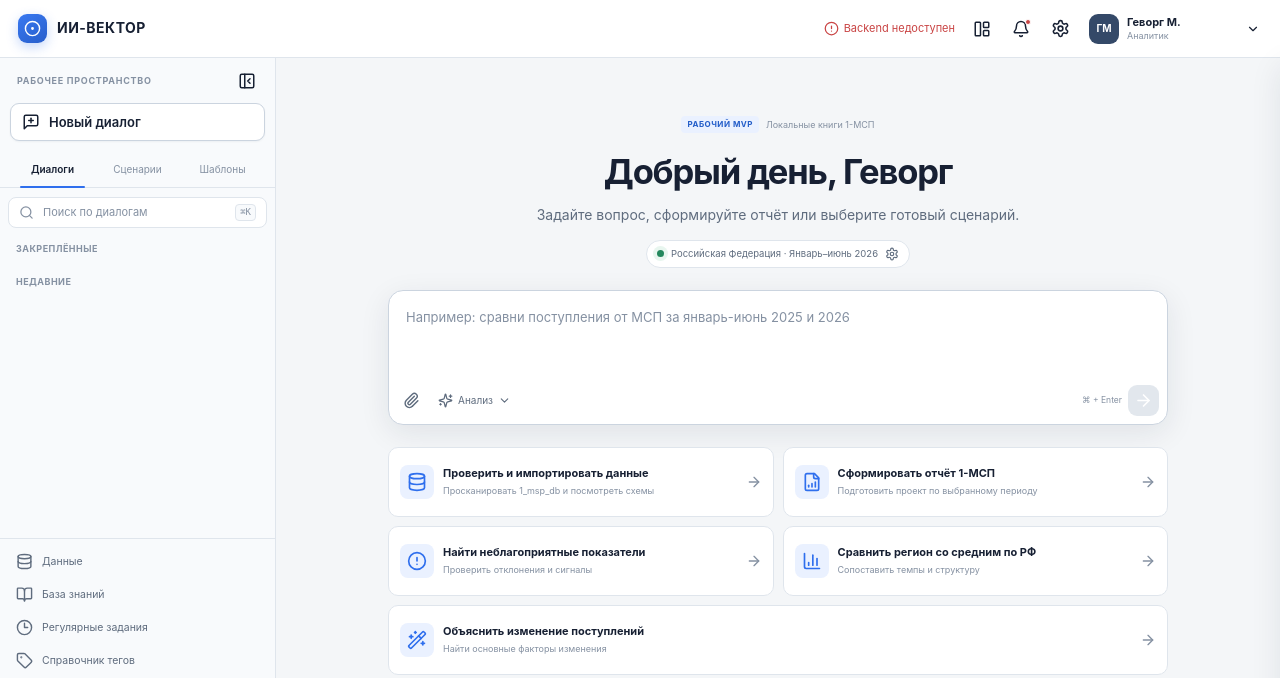
Test: ИИ-ВЕКТОР › routes the chat supercommand 'Собери мне отчёт по региону Якутия' to a prefilled generator
This screenshot has width=1280, height=678.
In the text box named "Введите вопрос или задачу": x=778, y=333 [389,291,1167,375], type "Собери мне отчёт по региону Якутия"
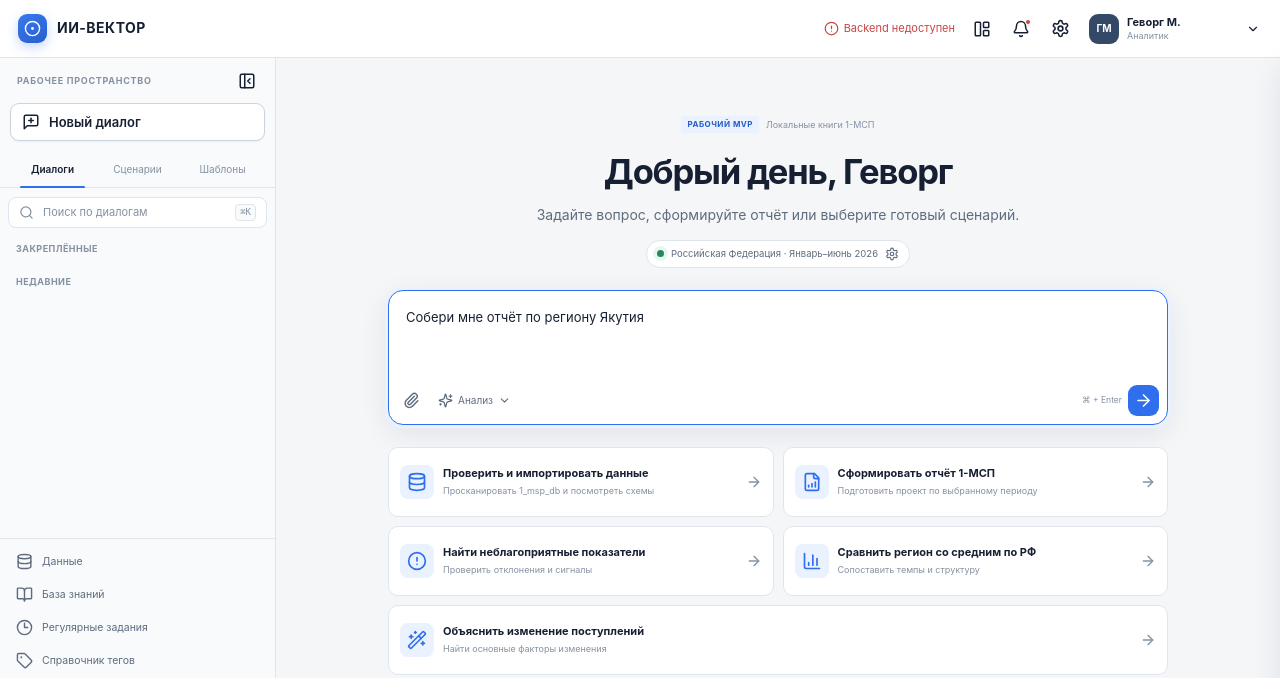
Click the button named "Отправить запрос": x=1144, y=400 [1128,385,1159,416]
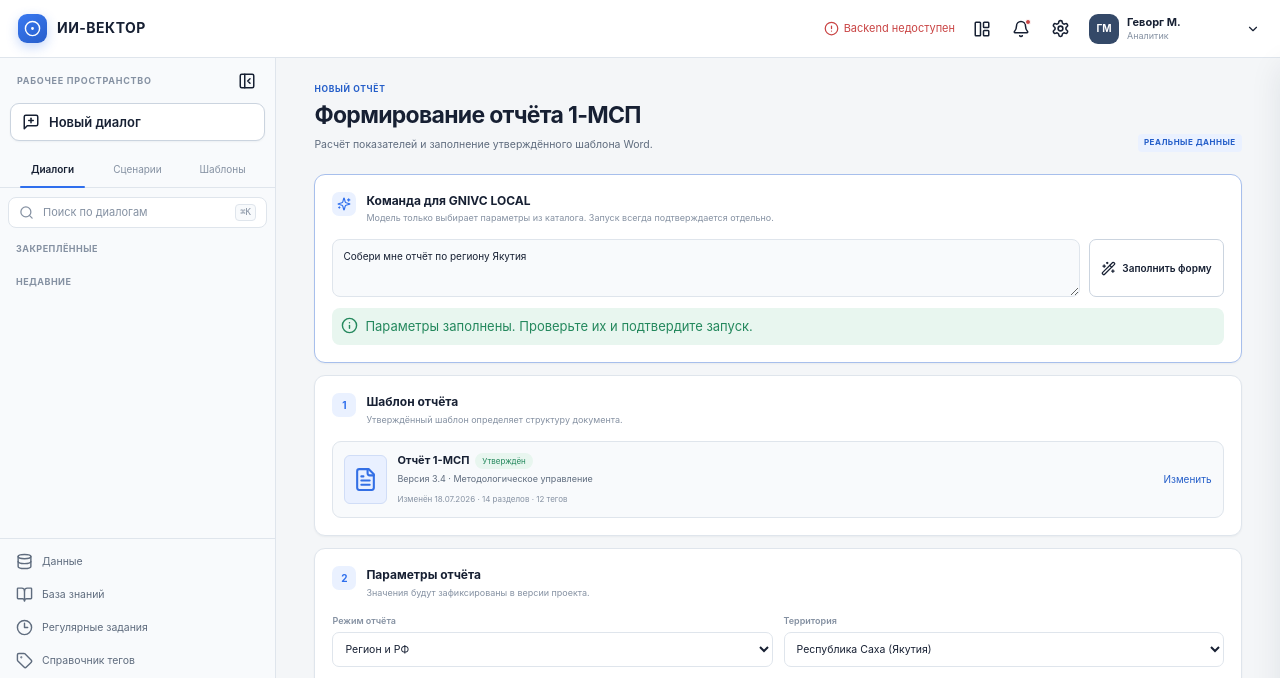
Expected: the heading "Формирование отчёта 1-МСП" is shown, [314,99,653,133]
Expected: the dropdown labelled "Режим отчёта" shows "Регион и РФ", [332,632,772,667]
Expected: the text "Параметры заполнены. Проверьте их и подтвердите запуск." is shown, [365,317,753,336]
